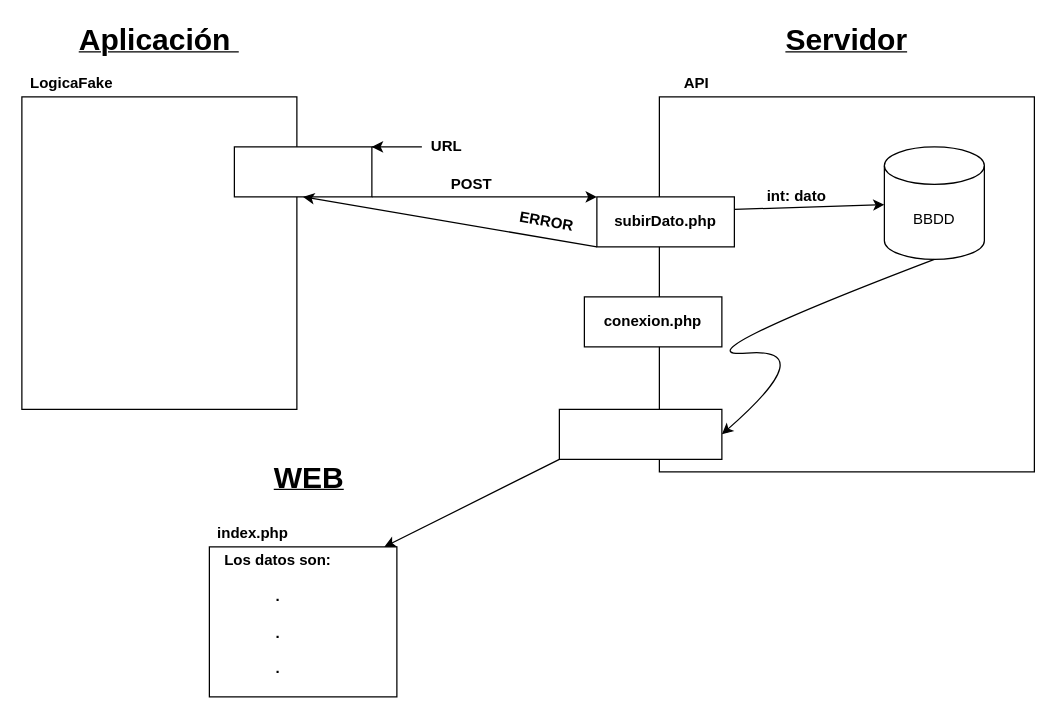
Some shapes in this 1056 by 719 pixel diagram are drawn without their labels. Each missing label, with the centre of its shape:
enviarDato ( ): the point at 302,171
mostrarDato.php: the point at 640,433
